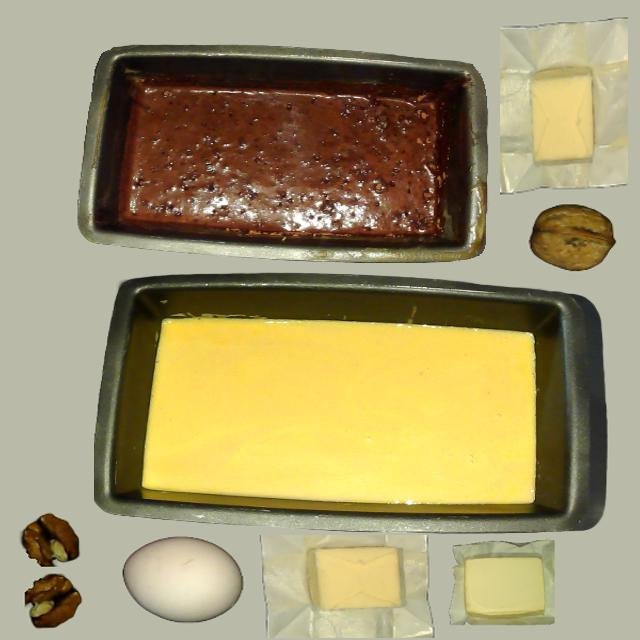Walnut: (526, 196, 618, 281)
